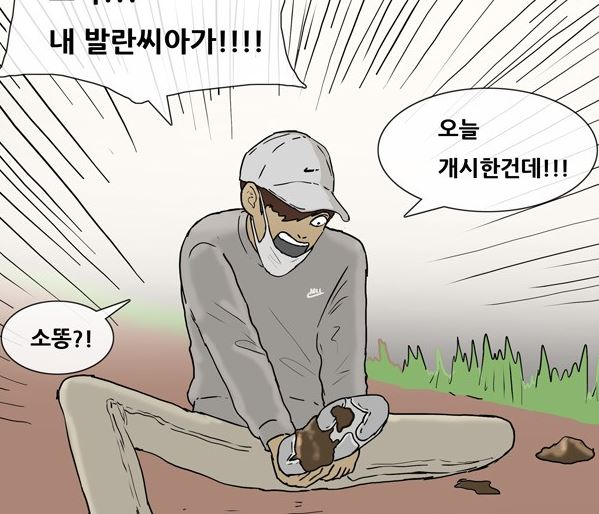hat: (237, 127, 353, 225)
